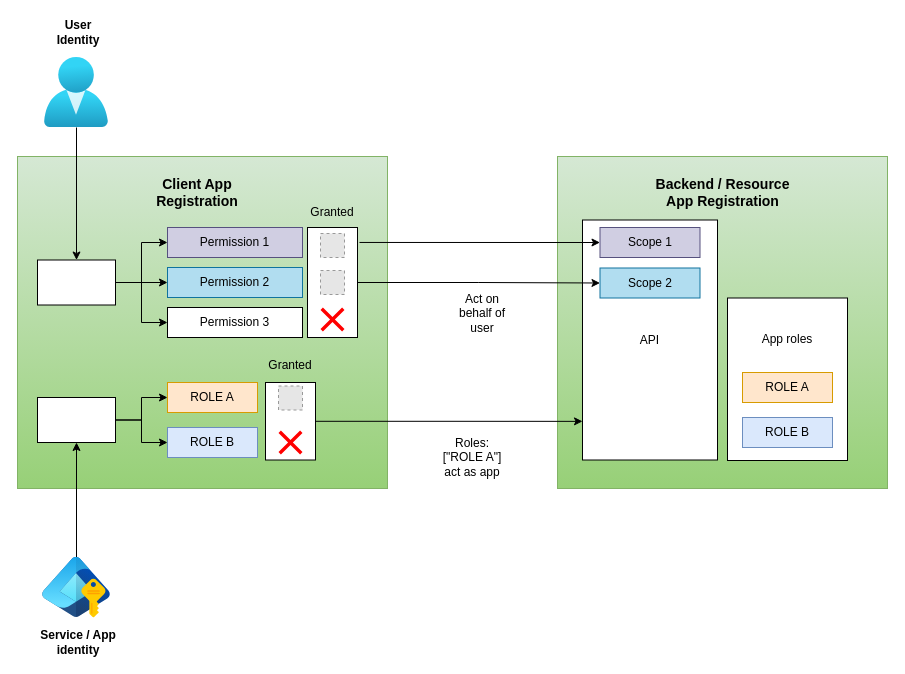
The diagram is 905 pixels wide and 674 high, and some of its shapes have lost their labels. Grey dashed boxes stand in for pictures. Here are the shapes that lost their labels. From the top down, the centre of each, then its label:
pixel 76 282: Delegated Permissions
pixel 76 419: Application Permissions
